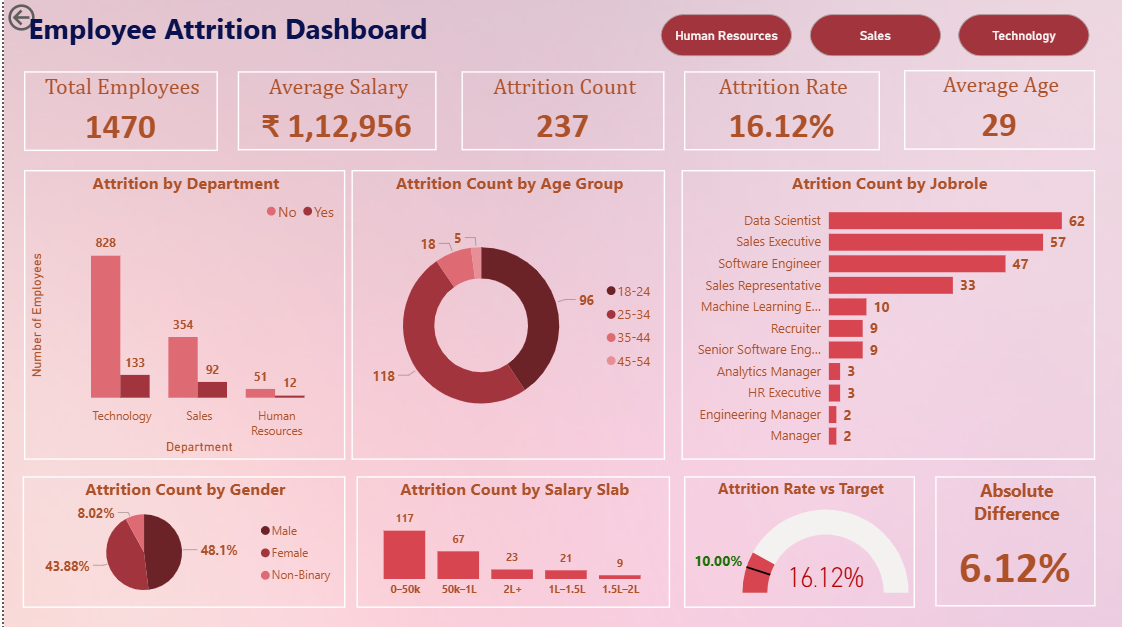

Layout of this report page (visuals, bound fields, positions):
{"tool":"powerbi","page":{"name":"Page 1","canvas":[1280,720],"ordinal":0},"visuals":[{"type":"card","title":"Total Employees","fields":{"Values":["Count(Employee.EmployeeID)"]},"box":[22.9,81.4,221.4,91.4],"z":0},{"type":"card","title":"Attrition Rate ","fields":{"Values":["Employee.Attrition Rate %"]},"box":[777.7,81.9,223.8,90.5],"z":1000},{"type":"card","title":"Average Salary","fields":{"Values":["Avg(Employee.Salary)"]},"box":[266.6,81.9,227.4,90.5],"z":2000},{"type":"actionButton","box":[0,0,100,40],"z":3000},{"type":"card","title":"Attrition Count","fields":{"Values":["Employee.Attrition Count"]},"box":[523.4,81.9,232.3,90.5],"z":4000},{"type":"clusteredColumnChart","title":"Attrition by Department","fields":{"Category":["Employee.Department"],"Y":["CountNonNull(Employee.EmployeeID)"],"Series":["Employee.Attrition"]},"box":[22.9,194.3,367.1,331.4],"z":5000},{"type":"clusteredBarChart","title":"Atrition Count by Jobrole","fields":{"Category":["Employee.JobRole"],"Y":["Employee.Attrition Count"]},"box":[774.3,194.3,472.9,331.4],"z":6000},{"type":"advancedSlicerVisual","fields":{"Values":["Employee.Department"]},"box":[745.7,11.4,501.4,58.6],"z":7000},{"type":"card","title":"Average Age","fields":{"Values":["Avg(Employee.Age)"]},"box":[1028.6,80,218.6,91.4],"z":8000},{"type":"gauge","title":"Attrition Rate vs Target","fields":{"Y":["Employee.Attrition Rate %"],"TargetValue":["Employee.Target Attrition Rate %"]},"box":[777.1,544.3,264.3,150],"z":9000},{"type":"pieChart","fields":{"Category":["Employee.Gender"],"Y":["Employee.Attrition Count"]},"box":[21.4,544.3,368.6,150],"z":10000},{"type":"card","title":"Absolute Difference","fields":{"Values":["Employee.Absolute Difference"]},"box":[1064.3,544.3,182.9,148.6],"z":11000},{"type":"donutChart","fields":{"Y":["Employee.Attrition Count"],"Category":["Employee.Age Group"]},"box":[397.1,194.3,358.6,331.4],"z":13000},{"type":"clusteredColumnChart","fields":{"Category":["Employee.Salary Slab"],"Y":["Employee.Attrition Count"]},"box":[402.9,544.3,358.6,150],"z":14000},{"type":"textbox","box":[22.9,5.7,512.9,71.4],"z":14001}]}

Visuals, with their boxes in screenshot pixels (x1, y1, x2, y2), scaled from the page's 1280x720 canvas onto the 1122x627 screenshot:
"Total Employees" card: (20,71,214,150)
"Attrition Rate " card: (682,71,878,150)
"Average Salary" card: (234,71,433,150)
actionButton: (0,0,88,35)
"Attrition Count" card: (459,71,662,150)
"Attrition by Department" clusteredColumnChart: (20,169,342,458)
"Atrition Count by Jobrole" clusteredBarChart: (679,169,1093,458)
advancedSlicerVisual - Employee.Department: (654,10,1093,61)
"Average Age" card: (902,70,1093,149)
"Attrition Rate vs Target" gauge: (681,474,913,605)
pieChart - Employee.Gender x Employee.Attrition Count: (19,474,342,605)
"Absolute Difference" card: (933,474,1093,603)
donutChart - Employee.Attrition Count x Employee.Age Group: (348,169,662,458)
clusteredColumnChart - Employee.Salary Slab x Employee.Attrition Count: (353,474,668,605)
textbox: (20,5,470,67)
